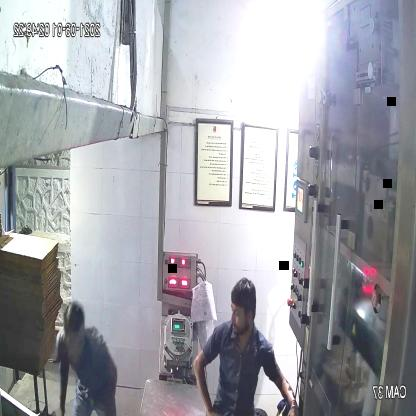no_goggles: (226, 300, 261, 324)
